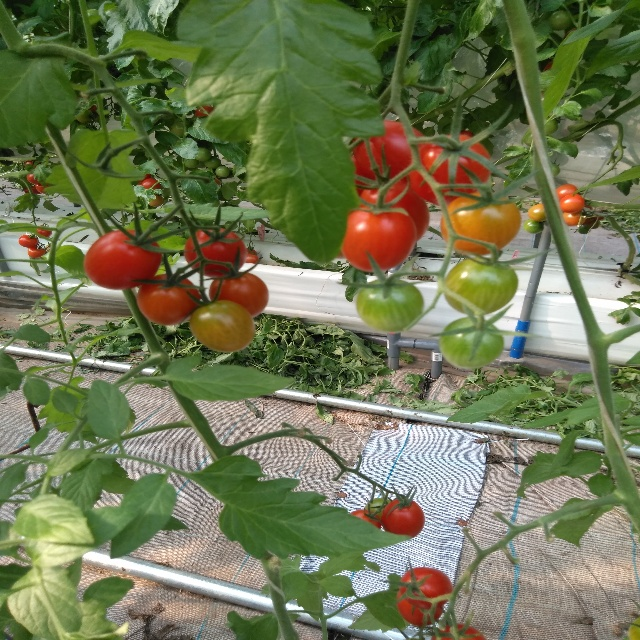l_fully_ripened: (407, 134, 491, 208), (341, 206, 416, 273), (352, 120, 430, 182), (83, 229, 162, 290), (359, 179, 430, 240), (184, 227, 248, 277), (399, 566, 454, 610), (381, 498, 425, 540), (397, 589, 444, 627), (431, 623, 487, 640), (348, 509, 381, 530), (560, 194, 585, 214), (556, 184, 579, 200), (18, 235, 39, 248), (27, 246, 45, 258)
l_green: (442, 257, 520, 317), (355, 278, 424, 333), (438, 316, 504, 368), (363, 498, 391, 519), (523, 219, 544, 234), (193, 147, 212, 162), (204, 156, 222, 169), (215, 166, 230, 178), (184, 159, 200, 168)
l_half_ripened: (439, 192, 520, 256), (189, 299, 255, 352), (137, 273, 201, 325), (209, 272, 269, 316), (562, 211, 586, 226), (528, 204, 547, 222)
